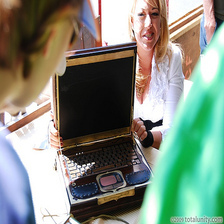laptop: (34, 34, 168, 220)
